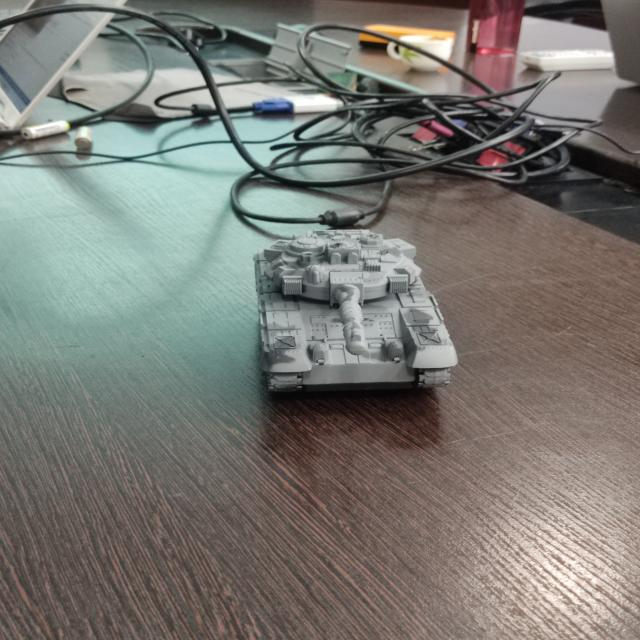tank: (252, 232, 458, 402)
